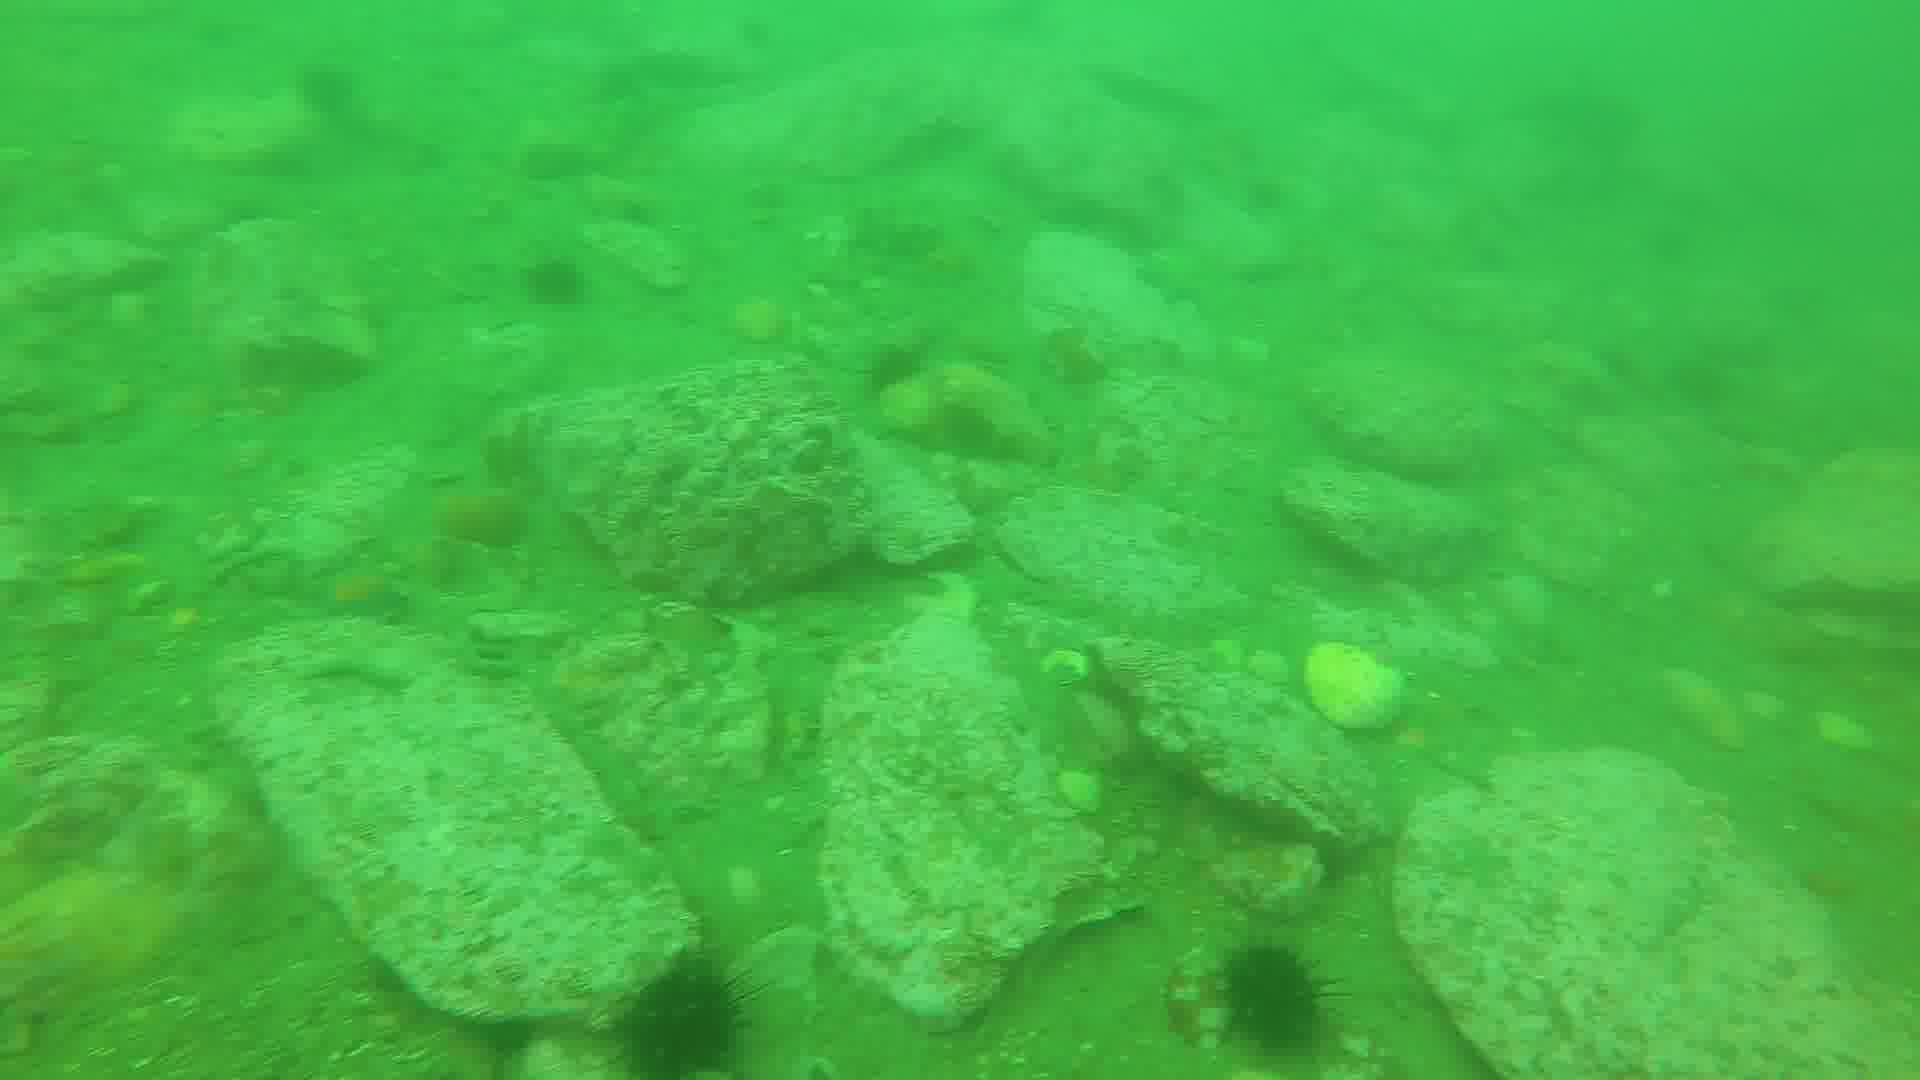echinus: (622, 965, 738, 1080), (1226, 934, 1324, 1054)
starfish: (316, 559, 404, 624)
